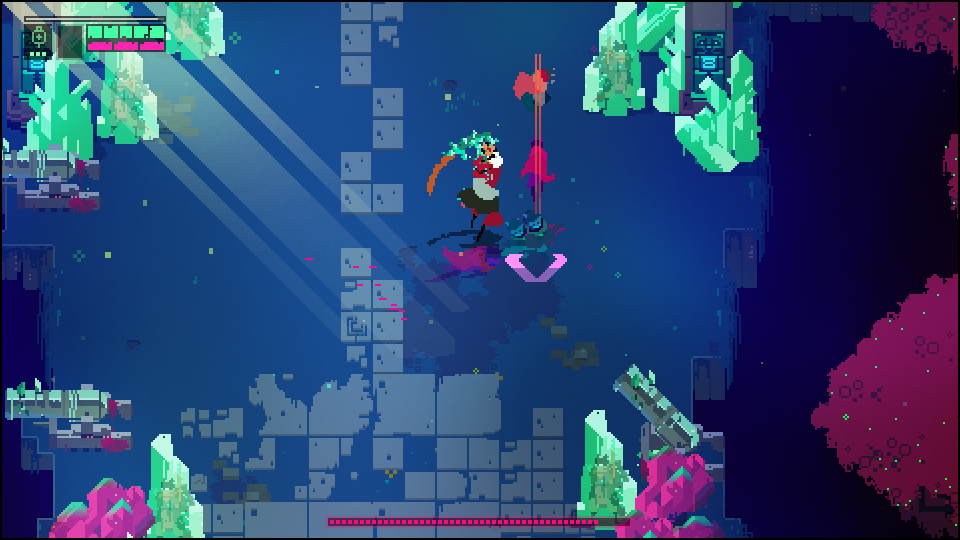hanged_man: (429, 128, 505, 247)
player: (511, 64, 553, 115)
